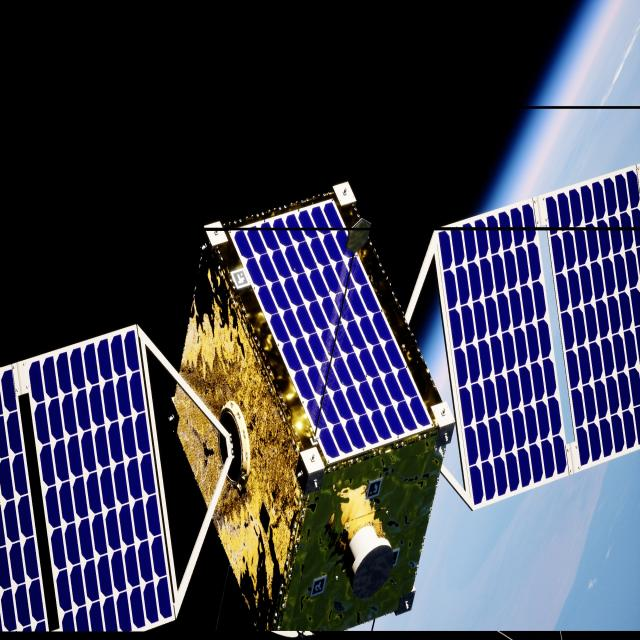satellite: (0, 165, 640, 635)
